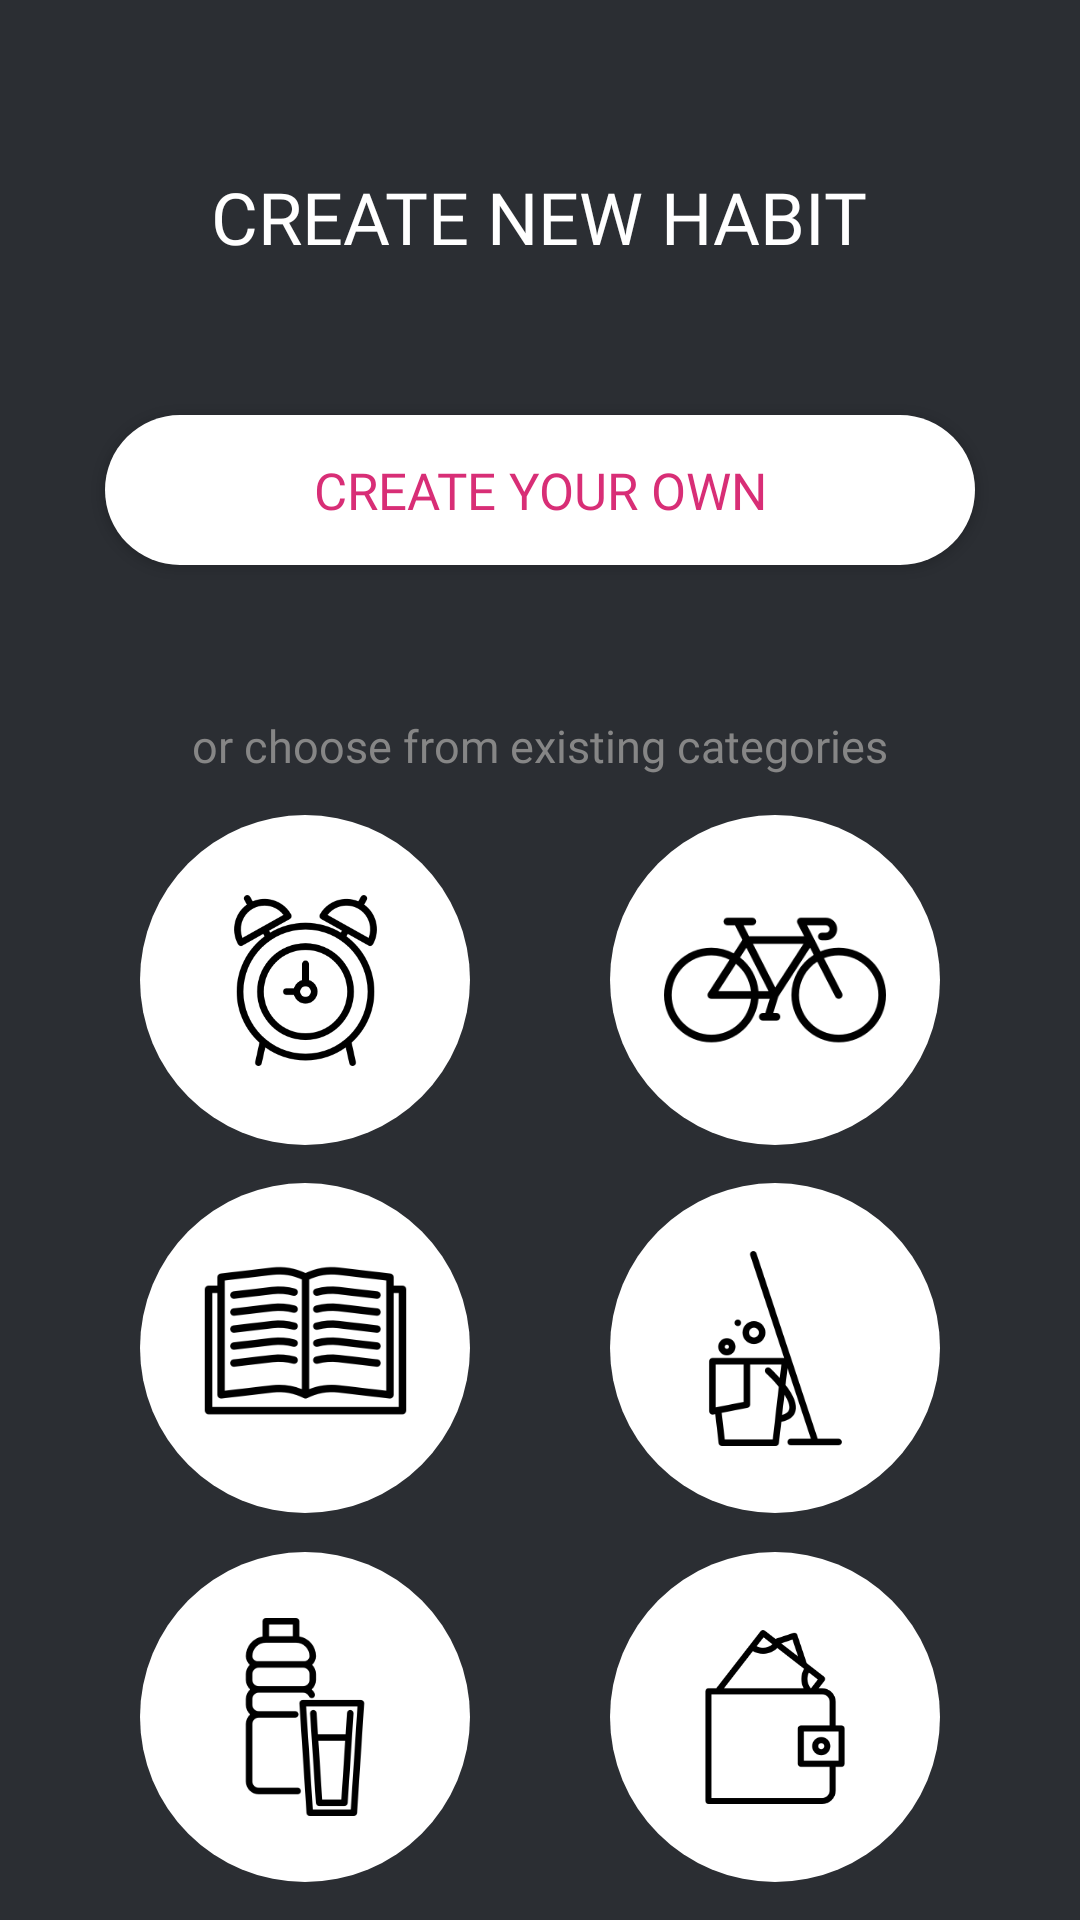

Icon click points for this 1080x1920 phone screenshot, format point (x, y):
alarm clock: point (305, 980)
bicycle: point (775, 980)
book: point (305, 1348)
cleaning: point (775, 1348)
wallet: point (775, 1717)
water: point (305, 1717)
